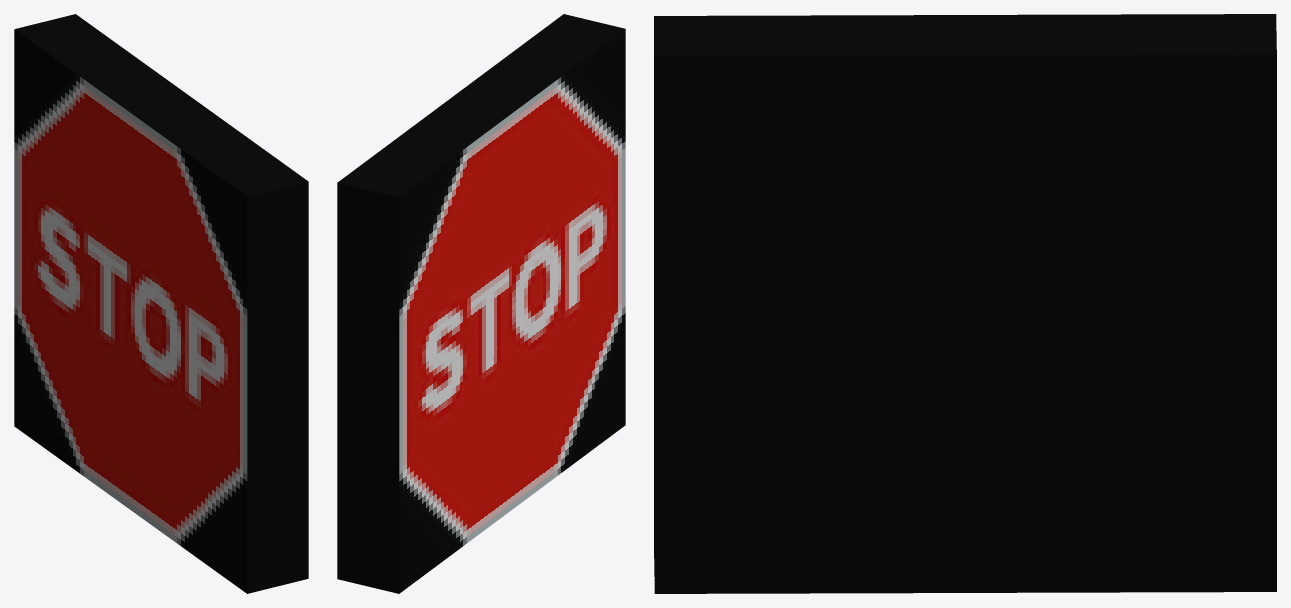
The model's file is w_traffic_sign_ES_R2.glb.
3 renders of one model, left to right at view 1: azimuth 30°, elevation 25°; view 2: azimuth 150°, elevation 25°; view 3: azimuth 270°, elevation 25°, orthographic. The views are drawn at different scales.
Parts seen in each view (by area): view 1: Cube.002; view 2: Cube.002; view 3: Cube.002.
Boxes of the visible parts, x1,y1,x2,y2 form: Cube.002: (14, 14, 308, 593); Cube.002: (337, 14, 625, 593); Cube.002: (654, 14, 1276, 593).
Bounding box in the file's own units: 0.0873 × 0.5119 × 0.5378.
Materials: 1 (1 with a texture image).
